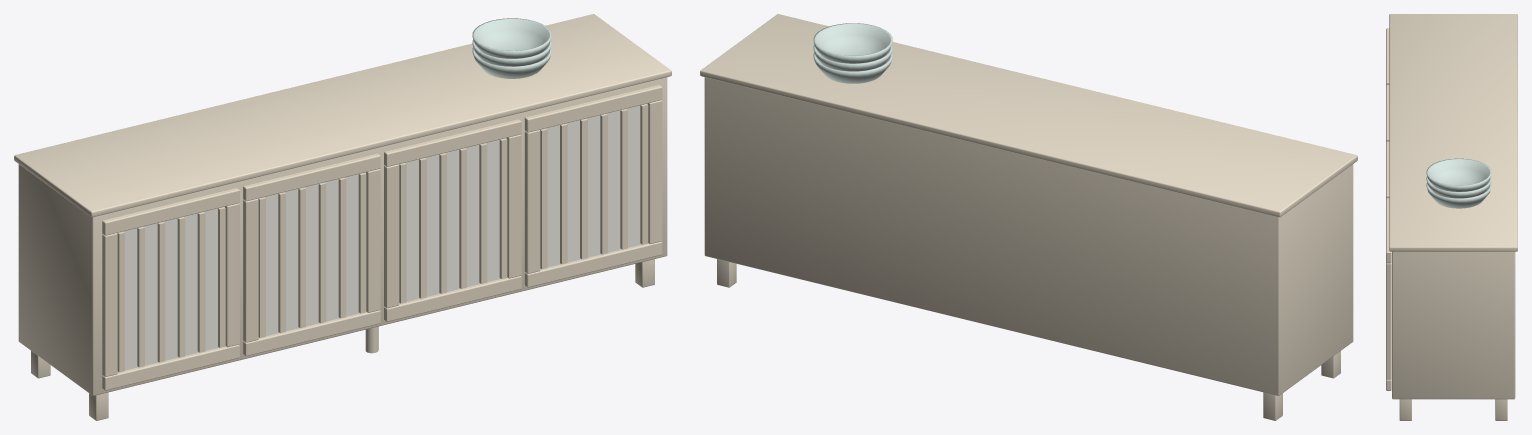
Rendered from sg_sideboard.glb.
3 renders of one model, left to right at view 1: azimuth 30°, elevation 25°; view 2: azimuth 150°, elevation 25°; view 3: azimuth 270°, elevation 25°, orthographic. The views are drawn at different scales.
Visible parts, largest first — view 1: top, body, door0_p, door1_p, door3_p, door2_p, door3_f, door0_f, door2_f, door1_f, door1_s, door0_s (+5 smaller); view 2: body, top, bowl2, bowl0, bowl1; view 3: top, body, bowl2, door3_f, bowl0, bowl1, leg10, leg11, door0_f, door2_f, door1_f.
Part boxes in pixels (x1=…): top: x1=14, y1=14, x2=671, y2=217; body: x1=18, y1=77, x2=667, y2=395; door0_p: x1=117, y1=206, x2=224, y2=372; door1_p: x1=258, y1=172, x2=365, y2=337; door3_p: x1=540, y1=103, x2=647, y2=269; door2_p: x1=399, y1=138, x2=506, y2=303; door3_f: x1=524, y1=85, x2=662, y2=287; door0_f: x1=102, y1=188, x2=239, y2=390; door2_f: x1=384, y1=119, x2=521, y2=321; door1_f: x1=243, y1=153, x2=380, y2=356; door1_s: x1=258, y1=172, x2=366, y2=337; door0_s: x1=117, y1=207, x2=225, y2=372; body: x1=704, y1=77, x2=1353, y2=395; top: x1=700, y1=14, x2=1357, y2=217; bowl2: x1=813, y1=23, x2=892, y2=63; bowl0: x1=813, y1=52, x2=892, y2=83; bowl1: x1=813, y1=45, x2=892, y2=71; top: x1=1389, y1=14, x2=1517, y2=251; body: x1=1392, y1=251, x2=1515, y2=399; bowl2: x1=1426, y1=158, x2=1491, y2=191; door3_f: x1=1386, y1=198, x2=1391, y2=390; bowl0: x1=1426, y1=182, x2=1491, y2=208; bowl1: x1=1426, y1=176, x2=1491, y2=198; leg10: x1=1399, y1=399, x2=1411, y2=420; leg11: x1=1495, y1=399, x2=1507, y2=420; door0_f: x1=1386, y1=28, x2=1389, y2=85; door2_f: x1=1386, y1=141, x2=1389, y2=198; door1_f: x1=1386, y1=85, x2=1389, y2=141.
Bounding box in the file's own units: 2.02 × 0.83 × 0.482.
